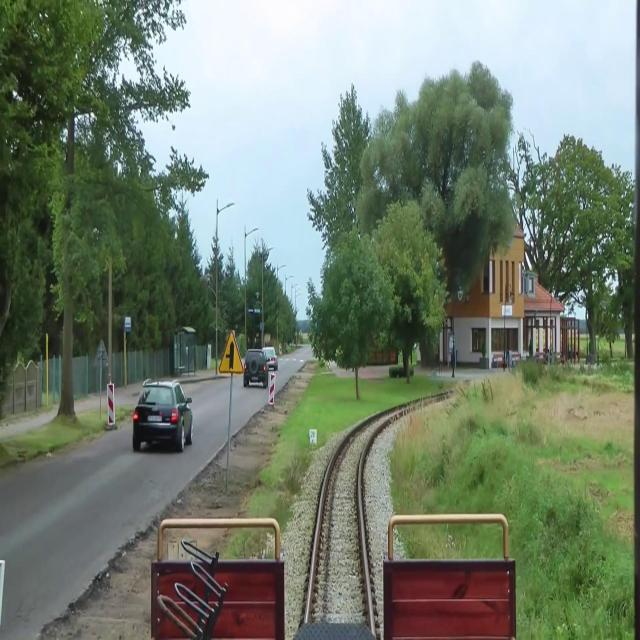rail-track: (310, 412, 395, 620)
